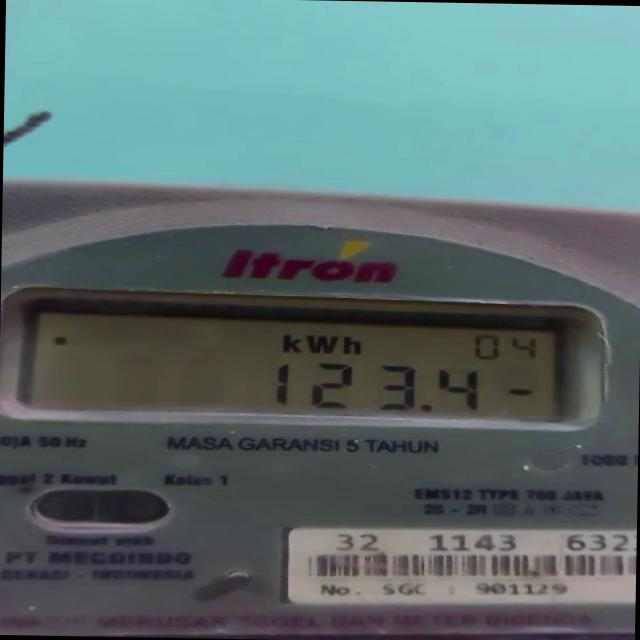LCD: (21, 298, 582, 424)
